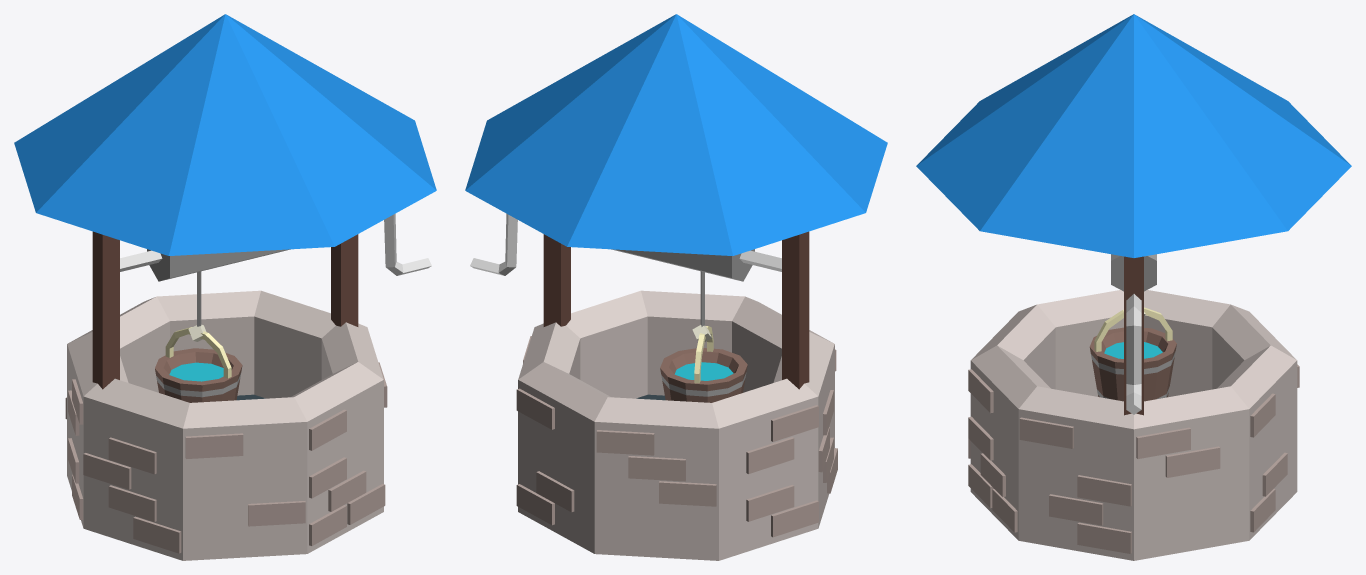
The model's file is building_001.fbx.
3 views of the same model, side by side, from view 1: azimuth 30°, elevation 25°; view 2: azimuth 150°, elevation 25°; view 3: azimuth 270°, elevation 25° (orthographic).
Parts seen in each view (by area): view 1: building.001; view 2: building.001; view 3: building.001.
Part boxes in pixels (x1,y1,x2,y2): building.001: [14, 14, 436, 560]; building.001: [465, 14, 887, 560]; building.001: [916, 14, 1351, 560].
Bounding box in the file's own units: 480 × 562 × 464.
Materials: 1 (1 with a texture image).
